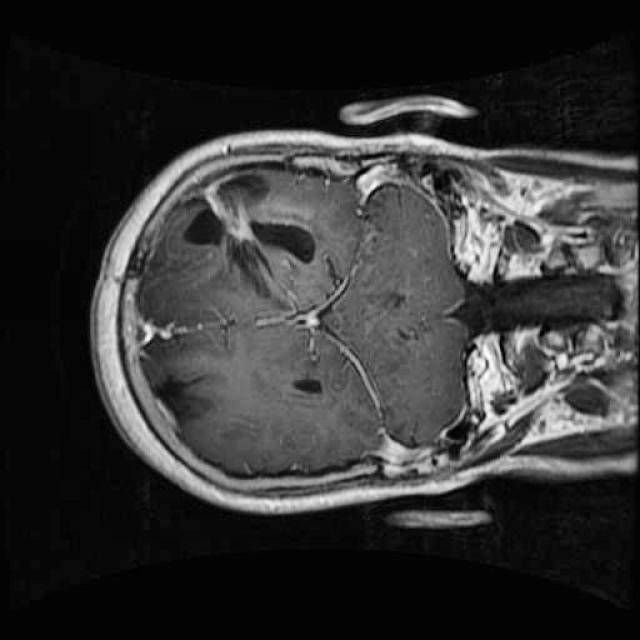Tumor: (174, 158, 332, 320)
